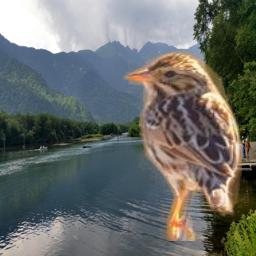Sparrow: (123, 51, 242, 241)
